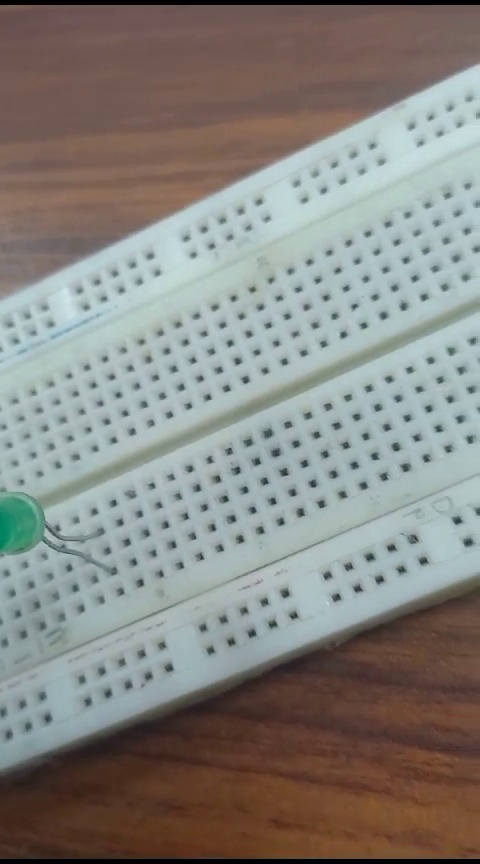LED: (2, 480, 107, 573)
